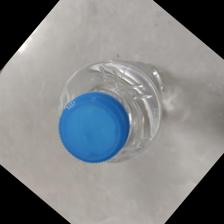Lavie: (51, 53, 182, 165)
